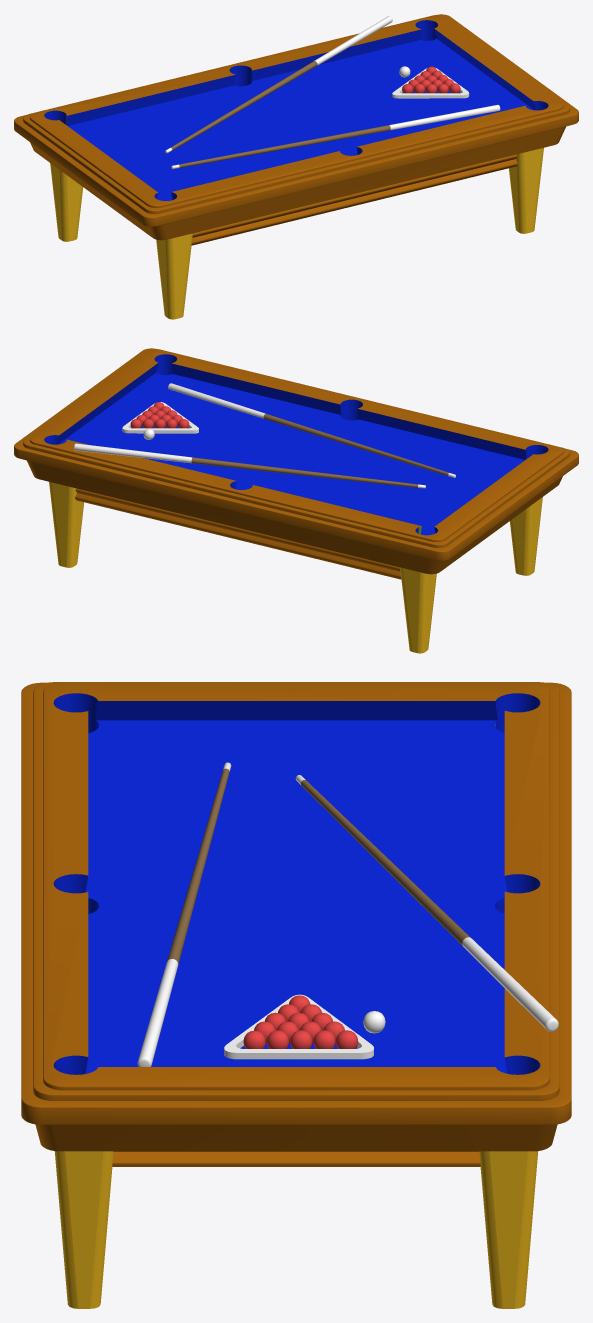
File: Bilardo.fbx
The picture shows the model from 3 angles, top to bottom: view 1: azimuth 30°, elevation 25°; view 2: azimuth 150°, elevation 25°; view 3: azimuth 270°, elevation 25°; orthographic projection. The views are drawn at different scales.
Visible parts, largest first — view 1: BillardTable; view 2: BillardTable; view 3: BillardTable.
Part boxes in pixels (x1,y1,x2,y2): BillardTable: [14, 14, 578, 319]; BillardTable: [14, 348, 578, 653]; BillardTable: [21, 682, 571, 1308].
Size of the model in its own units: 666 by 194 by 365.
